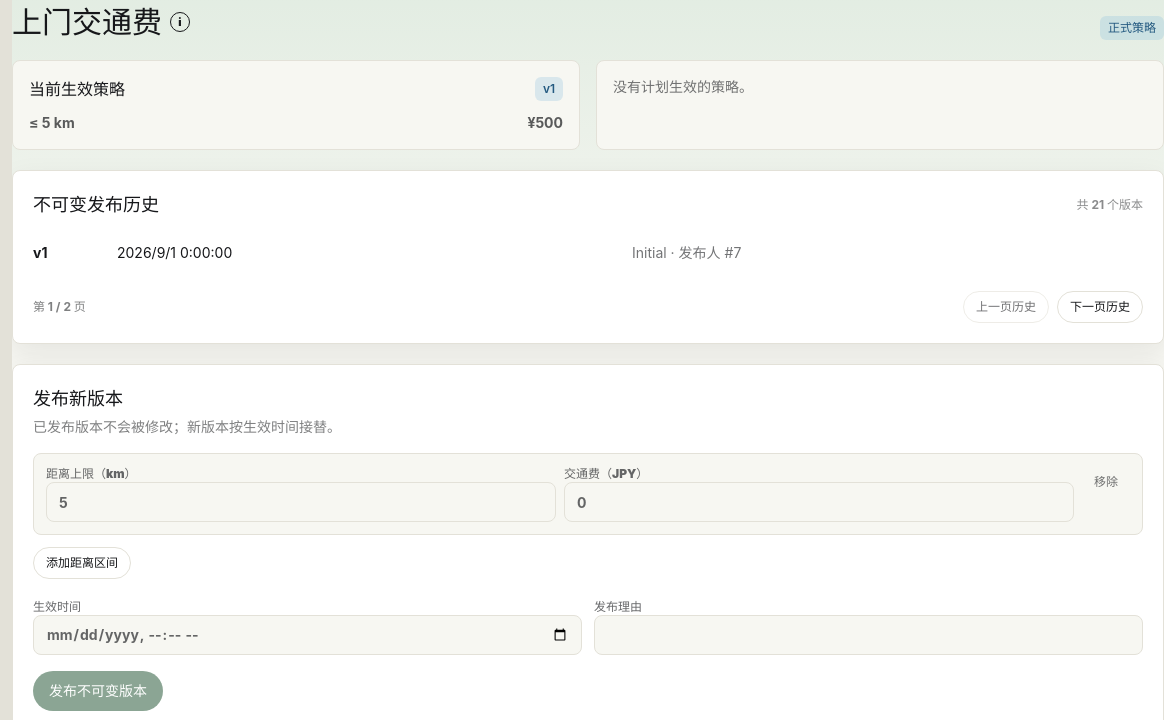
Test: ShopTravelFarePolicyPage › pages through the complete immutable version history
Click the button "下一页历史" at (1100, 307), box [1057,291,1143,323]
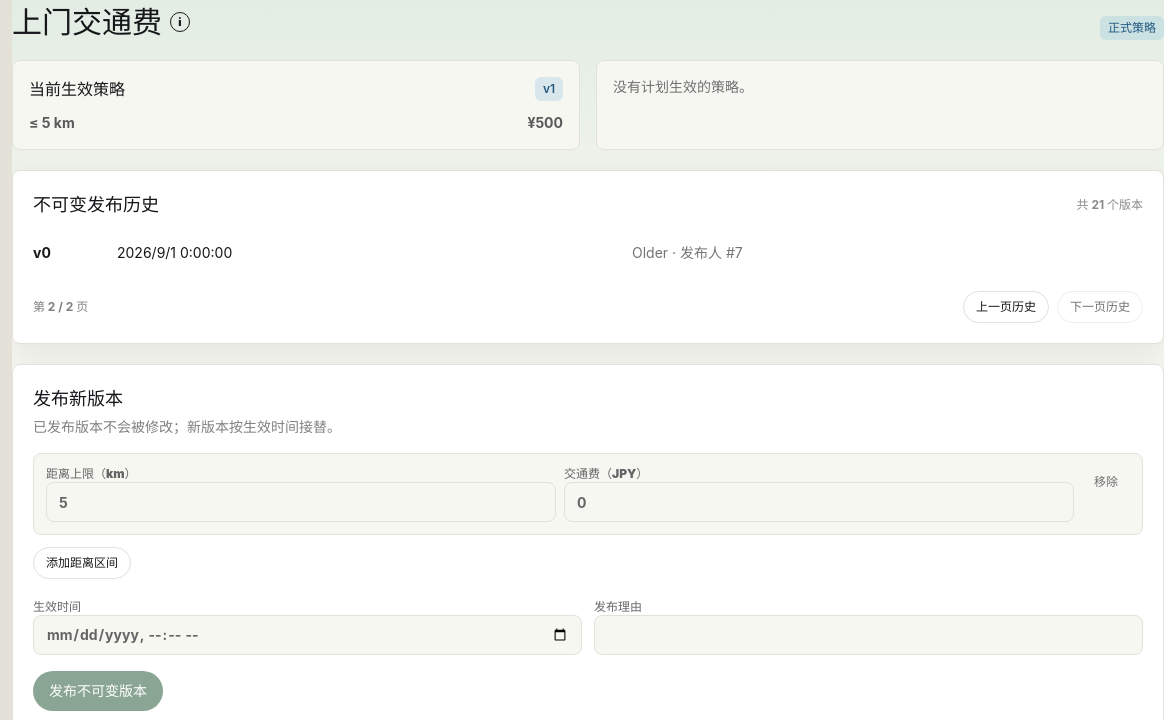
Expected: the text "Older" is shown, [632,244,668,261]
